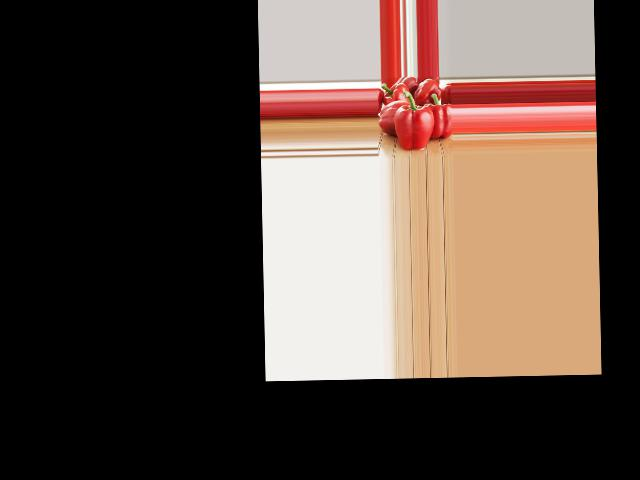bell_pepper: (379, 82, 409, 106)
